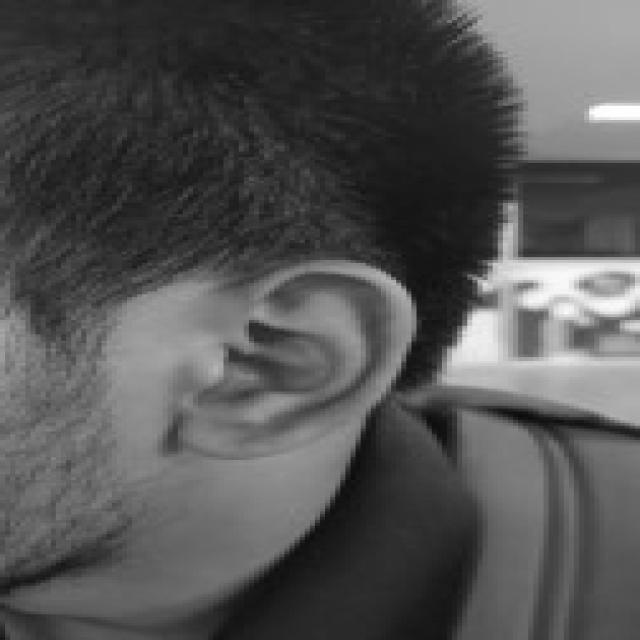ear: (178, 260, 411, 457)
